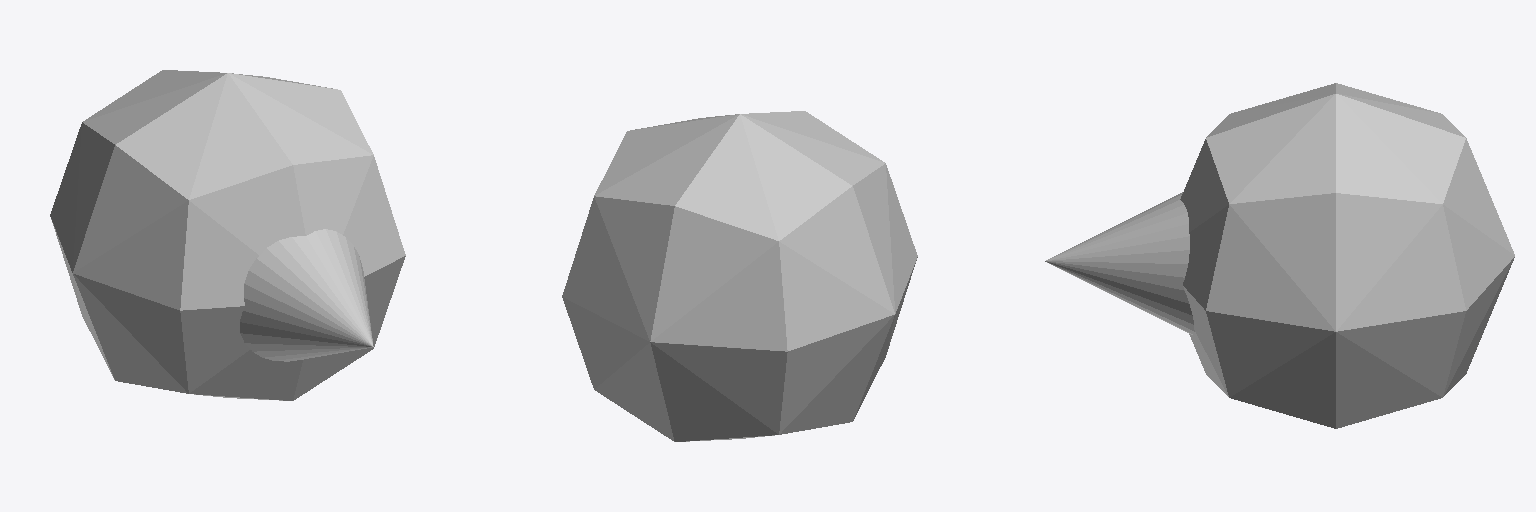
File: player.obj
The picture shows the model from 3 angles: view 1: azimuth 30°, elevation 25°; view 2: azimuth 150°, elevation 25°; view 3: azimuth 270°, elevation 25°; orthographic projection.
Visible parts, largest first — view 1: Cube, 円錐; view 2: Cube; view 3: Cube, 円錐.
Boxes of the visible parts, x1,y1,x2,y2 form: Cube: [50, 70, 405, 400]; 円錐: [240, 229, 373, 361]; Cube: [562, 111, 917, 441]; Cube: [1180, 83, 1514, 428]; 円錐: [1045, 192, 1194, 334].
Bounding box in the file's own units: 1.68 × 1.68 × 2.2.